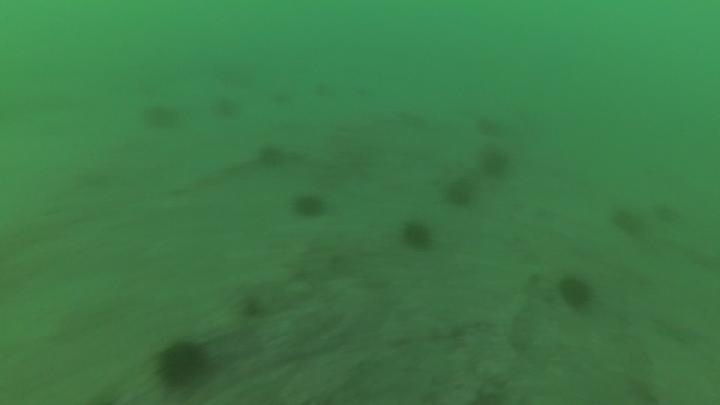echinus: (154, 338, 211, 389), (556, 274, 595, 313), (140, 101, 183, 134), (399, 218, 435, 253), (609, 205, 645, 239), (290, 191, 328, 222), (478, 146, 512, 180), (442, 177, 476, 210), (255, 142, 289, 171), (210, 94, 244, 123), (237, 294, 269, 322), (473, 113, 506, 140), (651, 200, 683, 227)
starfish: (650, 311, 707, 349)
